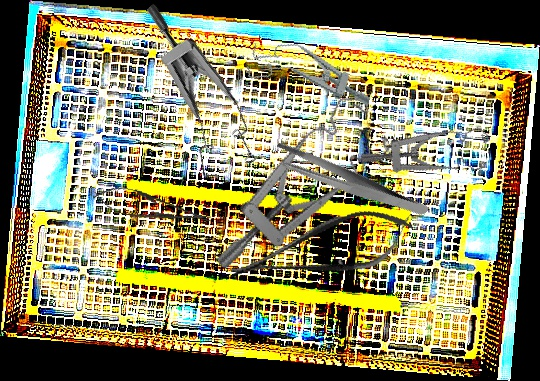Dressing Forceps: (269, 111, 430, 253)
Micro Scissor: (223, 198, 420, 300)
Needle Holder: (90, 180, 215, 235)
Speculum: (179, 88, 411, 271), (90, 1, 287, 195), (358, 94, 497, 201), (243, 31, 380, 116)
